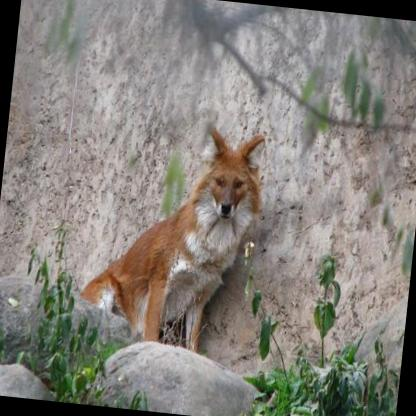dhole: (71, 111, 267, 357)
